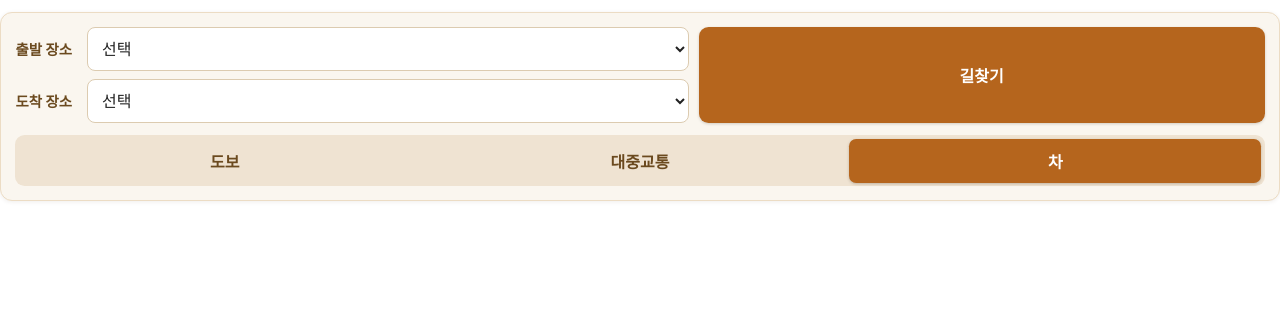
Test case: DirectionsPanel distance/time (REQ-F2-001/002 / AC-F2-01) › routes between two spots and shows distance + estimated minutes
Select "성수 베이커리" in the dropdown labelled "출발 장소": (388, 49) x1=87 y1=27 x2=689 y2=71
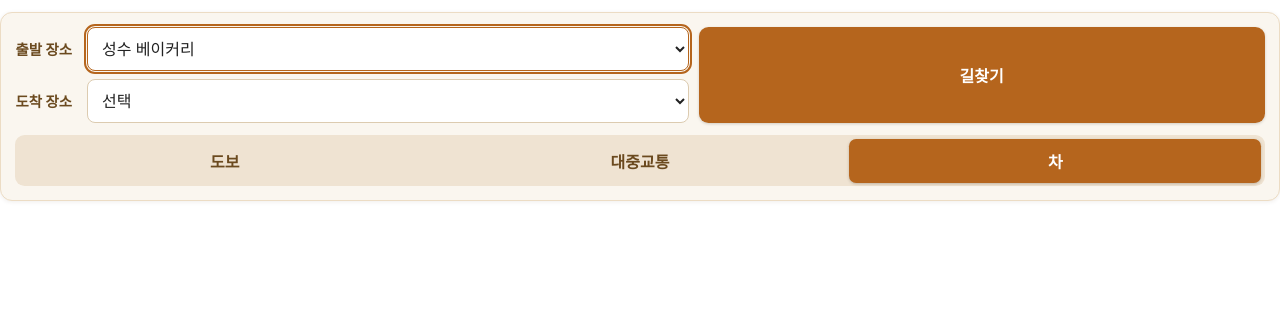
Select "연남 식당" in the dropdown labelled "도착 장소": (388, 101) x1=87 y1=79 x2=689 y2=123
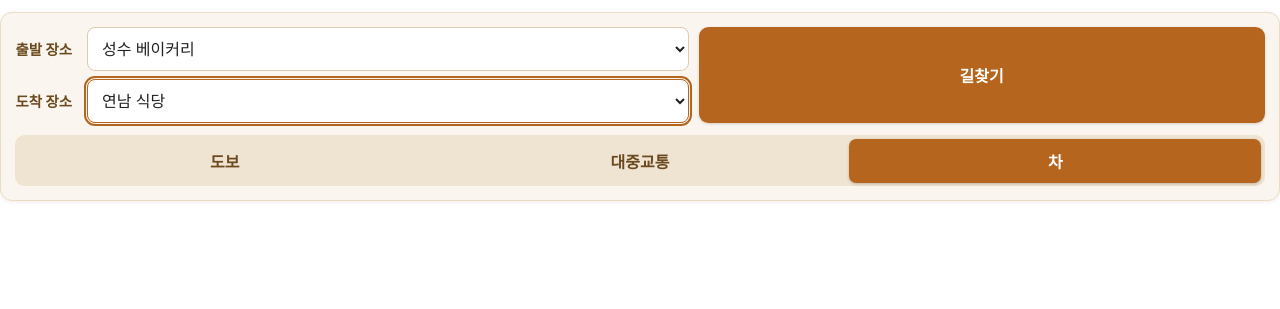
Click the button "길찾기": click(982, 75) x1=698 y1=27 x2=1265 y2=123
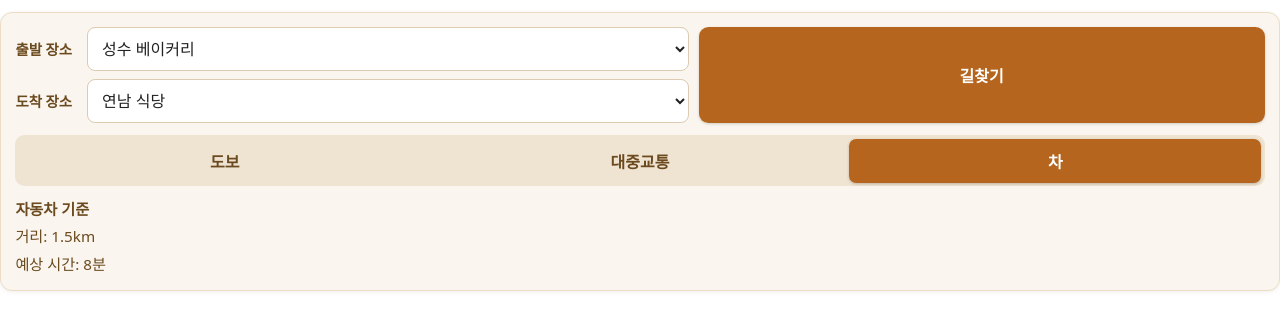
Check: the text with test id "route-distance" shows "1.5km", box x1=51 y1=226 x2=95 y2=246
Check: the text with test id "route-duration" shows "8분", box x1=83 y1=254 x2=106 y2=274
Check: the text with test id "route-mode" reads "자동차 기준", box x1=15 y1=199 x2=89 y2=219
